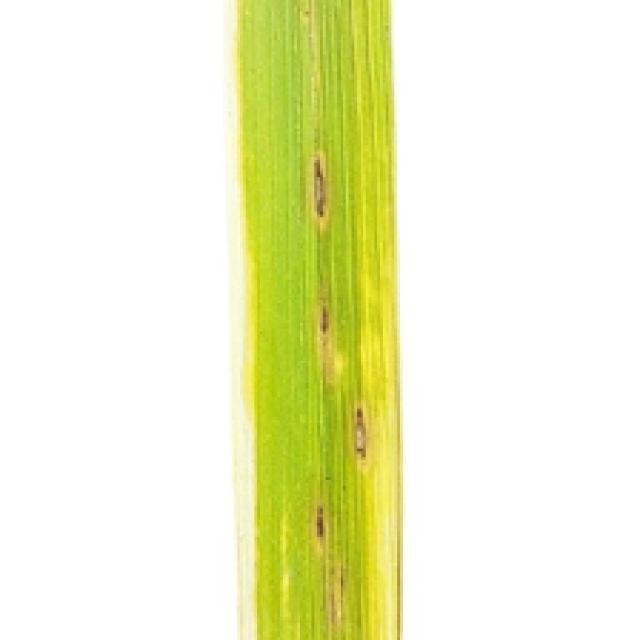Rice___Rice_Blast: (231, 0, 405, 637)
